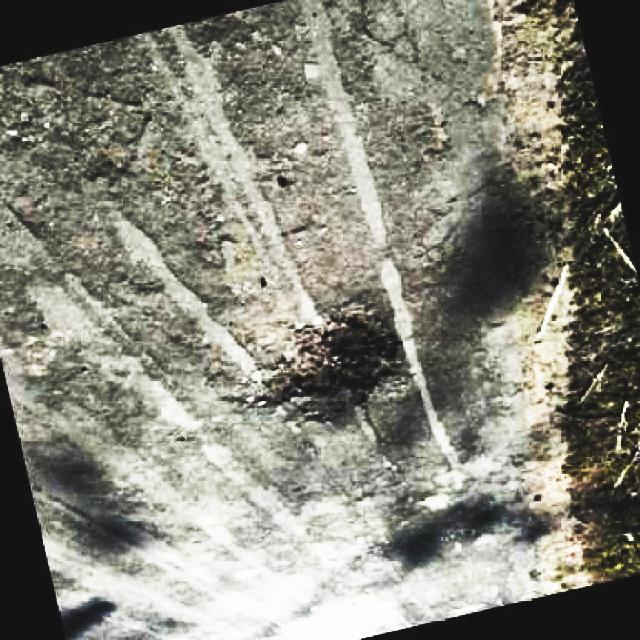pothole: (234, 308, 411, 424)
